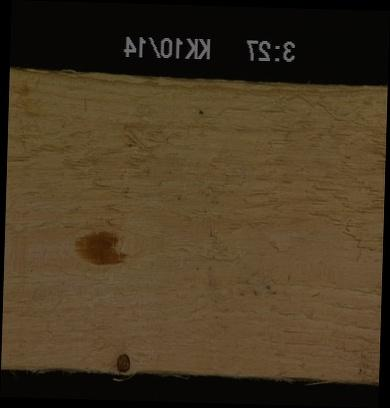dry_knot: (113, 352, 133, 373)
wave: (34, 362, 190, 382)
